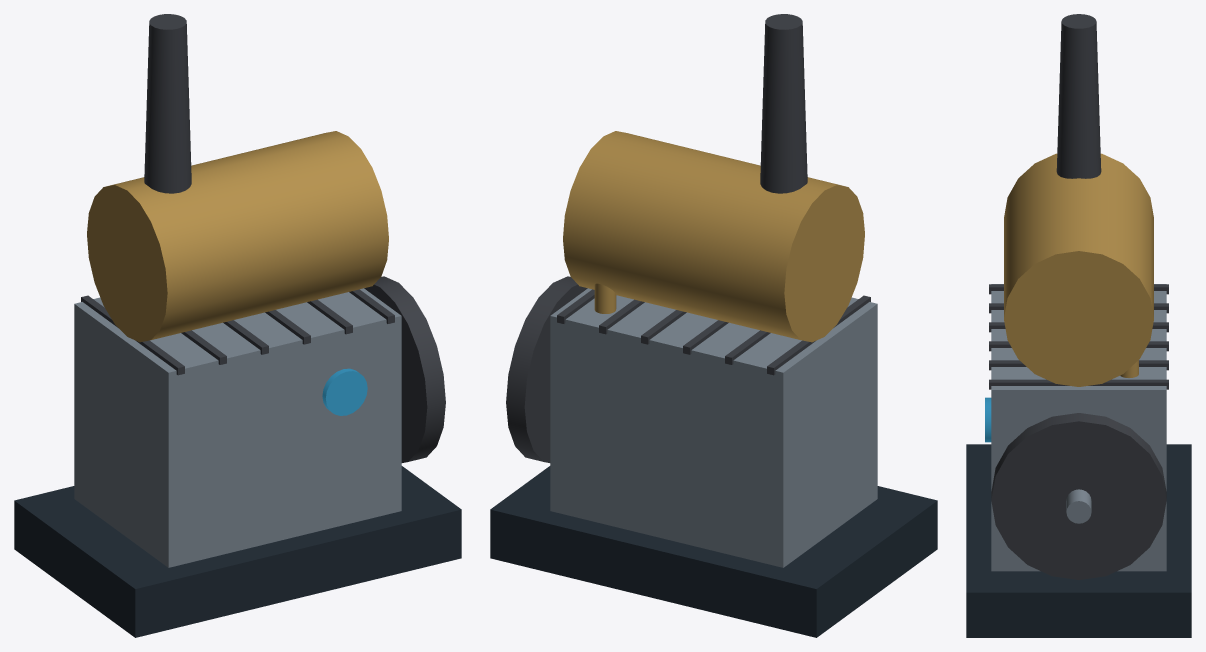
Rendered from steam-machine-lod0.glb.
3 renders of one model, left to right at view 1: azimuth 30°, elevation 25°; view 2: azimuth 150°, elevation 25°; view 3: azimuth 270°, elevation 25°, orthographic. The views are drawn at different scales.
Visible parts, largest first — view 1: body, boiler, base, chimney, flywheel, gauge, rivet-row-0; view 2: body, boiler, base, chimney, flywheel, rivet-row-0; view 3: boiler, flywheel, base, body, chimney, rivet-row-5, axle, rivet-row-4.
Part boxes in pixels (x1,y1,x2,y2): body: (74, 288, 401, 567); boiler: (87, 131, 388, 342); base: (14, 466, 461, 637); chimney: (144, 14, 191, 193); flywheel: (364, 276, 445, 462); gauge: (322, 368, 367, 415); rivet-row-0: (81, 295, 184, 375); body: (550, 288, 877, 567); boiler: (563, 131, 864, 342); base: (490, 466, 937, 637); chimney: (760, 14, 807, 193); flywheel: (506, 276, 587, 462); rivet-row-0: (767, 295, 870, 375); boiler: (1004, 153, 1153, 386); flywheel: (991, 413, 1166, 579); base: (966, 444, 1191, 637); body: (991, 284, 1166, 571); chimney: (1056, 14, 1101, 178); rivet-row-5: (989, 379, 1168, 389); axle: (1066, 489, 1091, 523); rivet-row-4: (989, 360, 1168, 370).
Bounding box in the file's own units: 1.5 × 2.25 × 0.9.
